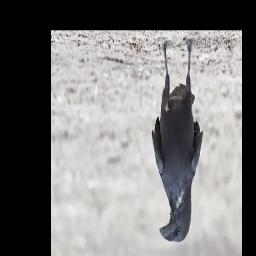Crow: (150, 37, 204, 244)
